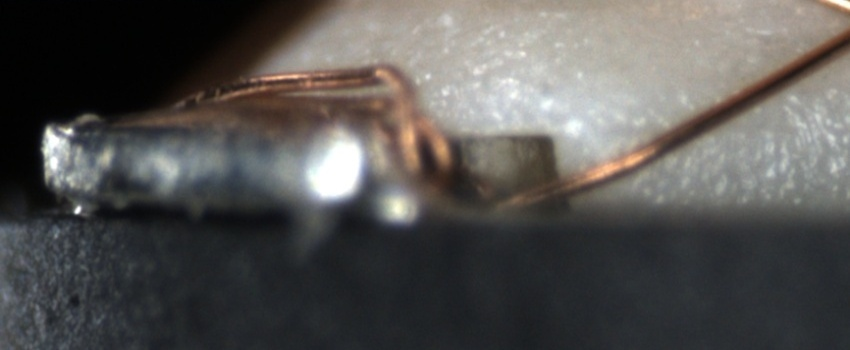DL: (594, 110, 794, 154)
TE: (177, 54, 461, 198)
